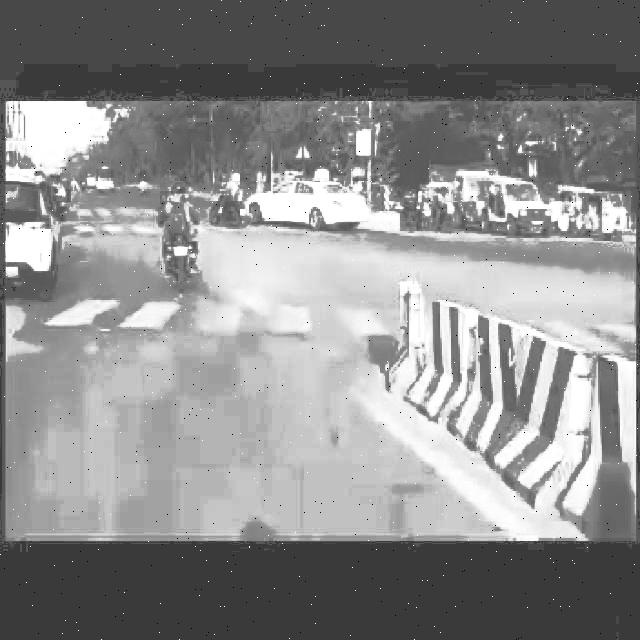Car: (244, 173, 375, 239), (0, 166, 65, 295), (460, 163, 560, 234)
